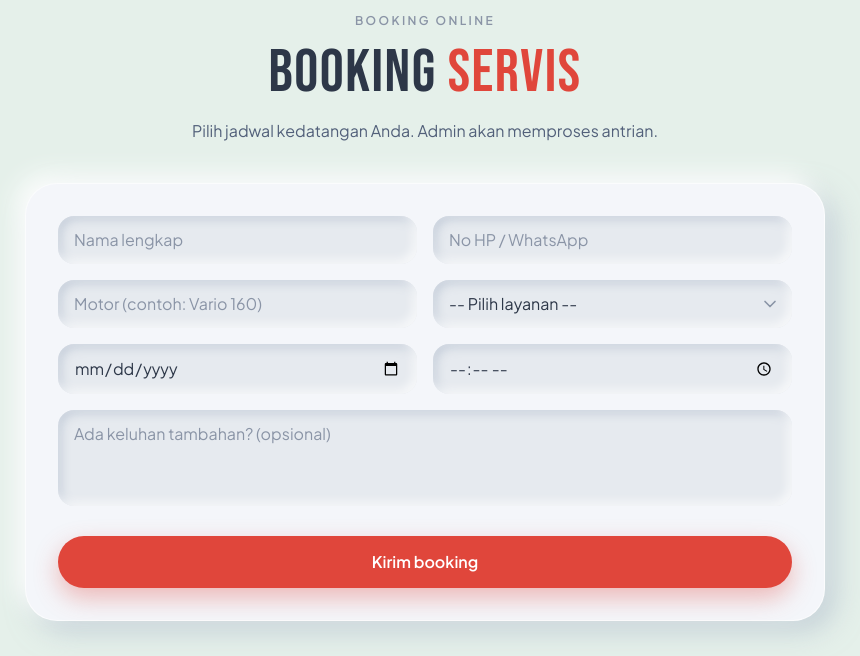
Scenario: Booking Component › menampilkan loading state saat submit
The width and height of the screenshot is (860, 656).
Isi form LENGKAP (termasuk service & time)
Type "John" into the field with placeholder "Nama lengkap" at [238, 240], box [58, 216, 417, 264]
Type "081234" into the field with placeholder "No HP / WhatsApp" at [612, 240], box [433, 216, 792, 264]
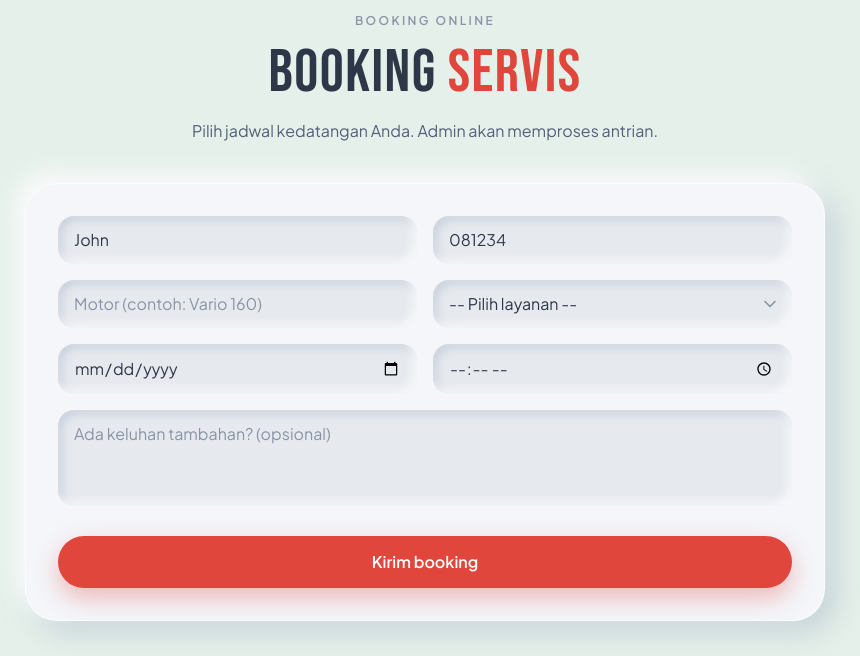
Type "Vario" into the field with placeholder "Motor (contoh: Vario 160)" at [238, 304], box [58, 280, 417, 328]
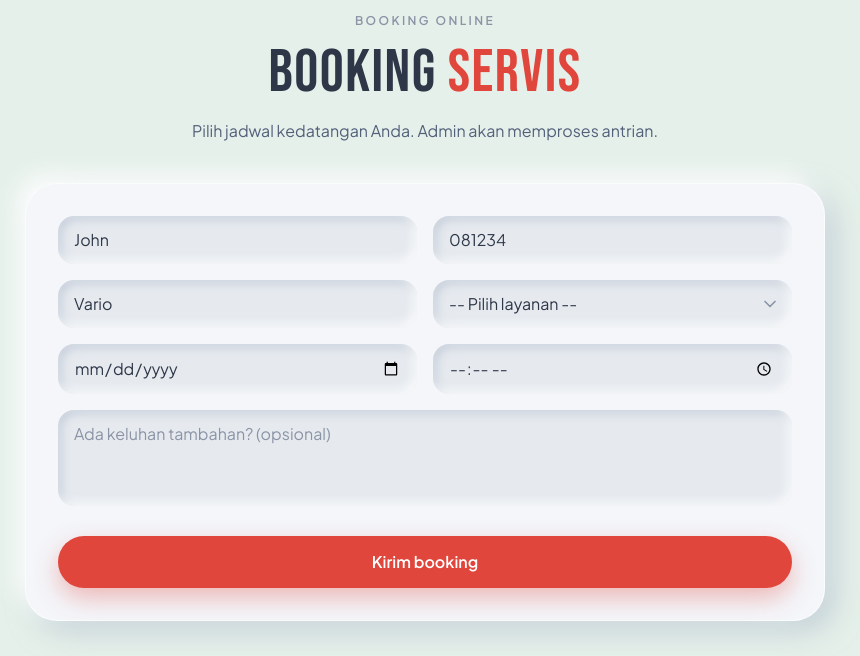
Select "Servis Ringan - Rp 50.000" in the dropdown at [612, 304], box [433, 280, 792, 328]
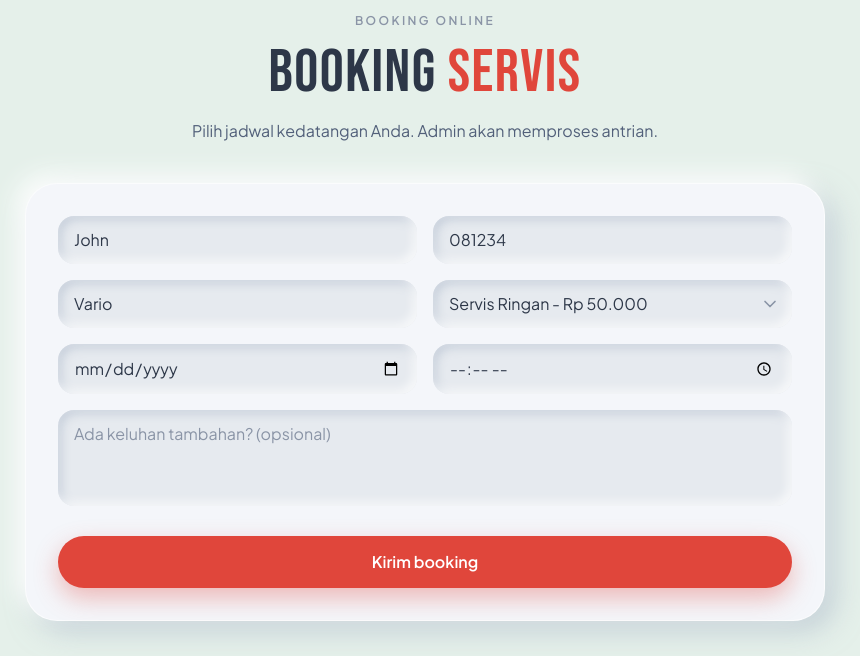
Type "2026-02-10" into the date field named "date" at [238, 369], box [58, 344, 417, 394]
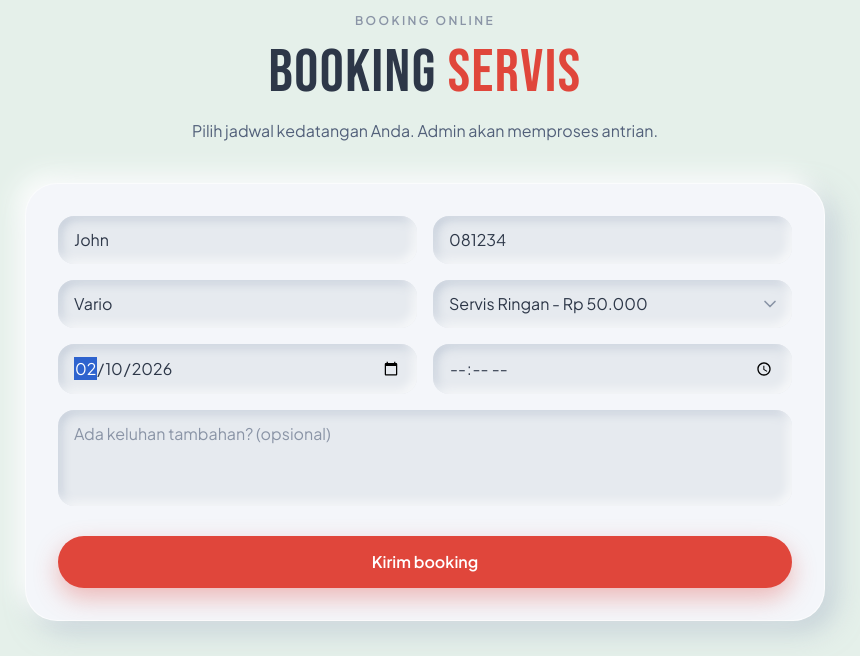
Type "10:00" into the time field named "time" at [612, 369], box [433, 344, 792, 394]
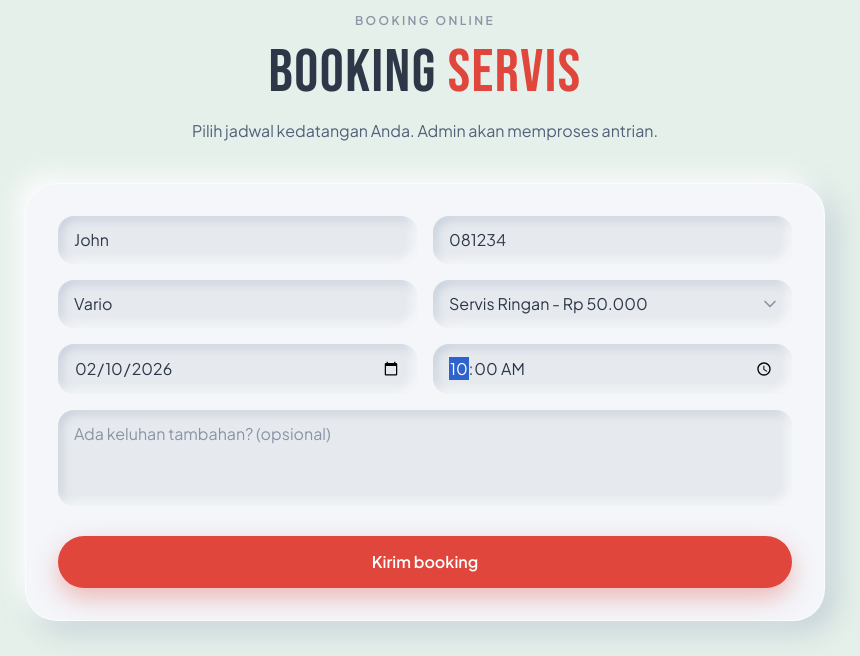
Click the button "Kirim booking" at [425, 562], box [58, 536, 792, 588]
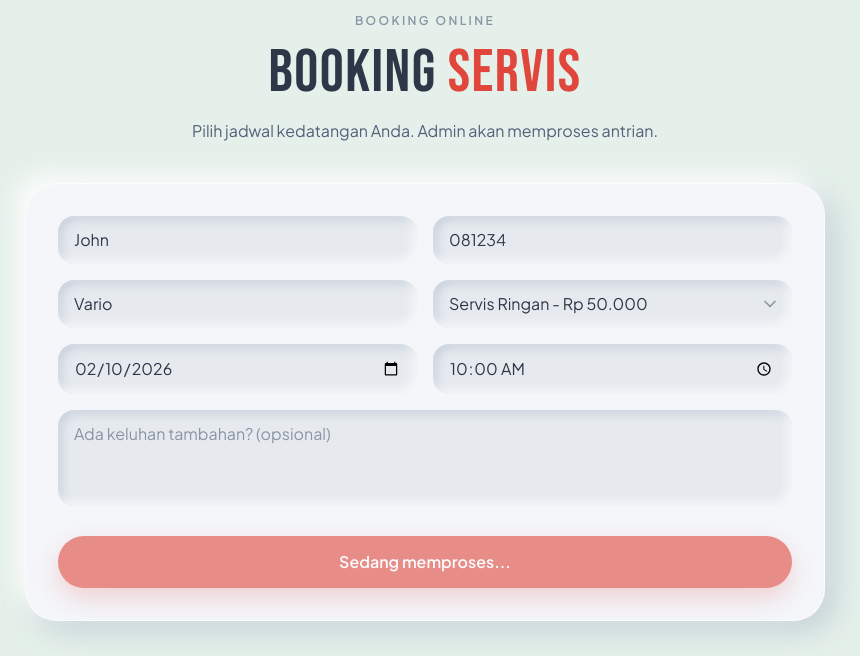
Now the button "Sedang memproses..." is shown, box [58, 536, 792, 588]
